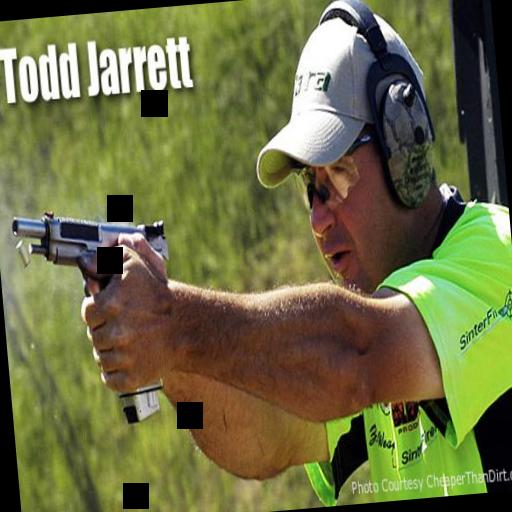Handgun: (5, 196, 181, 430)
